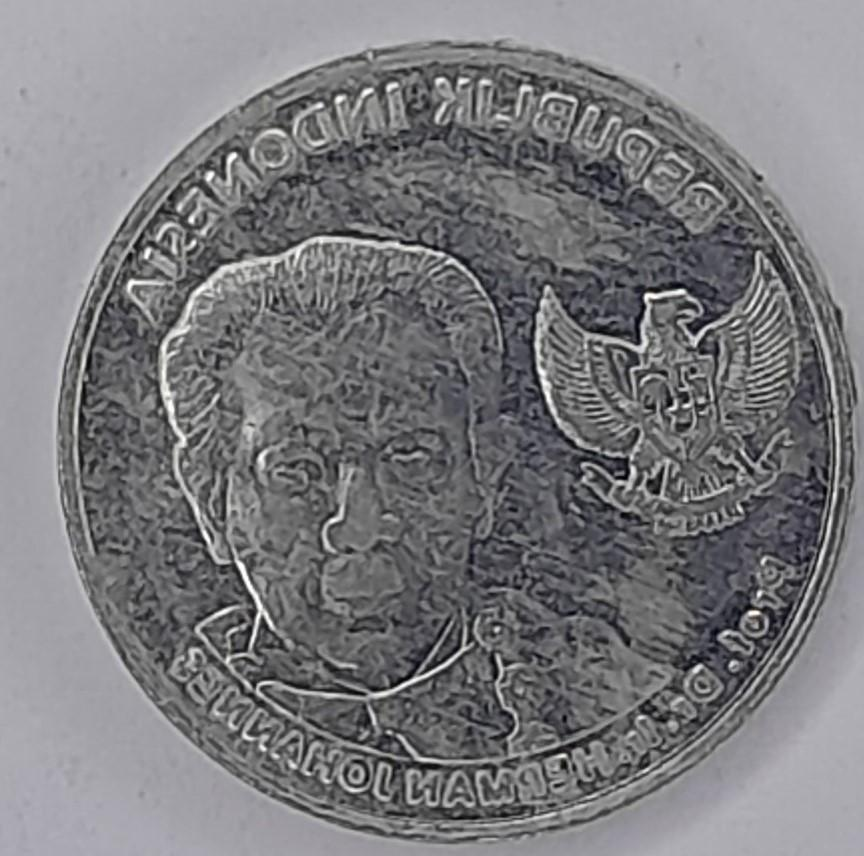coin_100_e2016: (49, 32, 863, 846)
